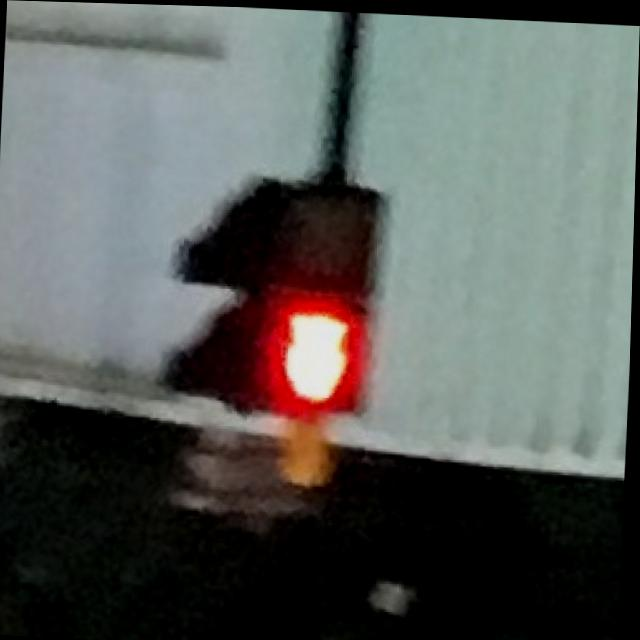red_light: (274, 293, 364, 413)
